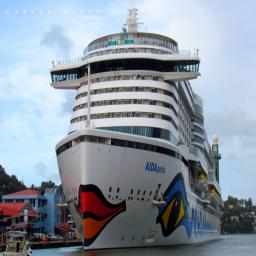cruises: (49, 8, 227, 254)
